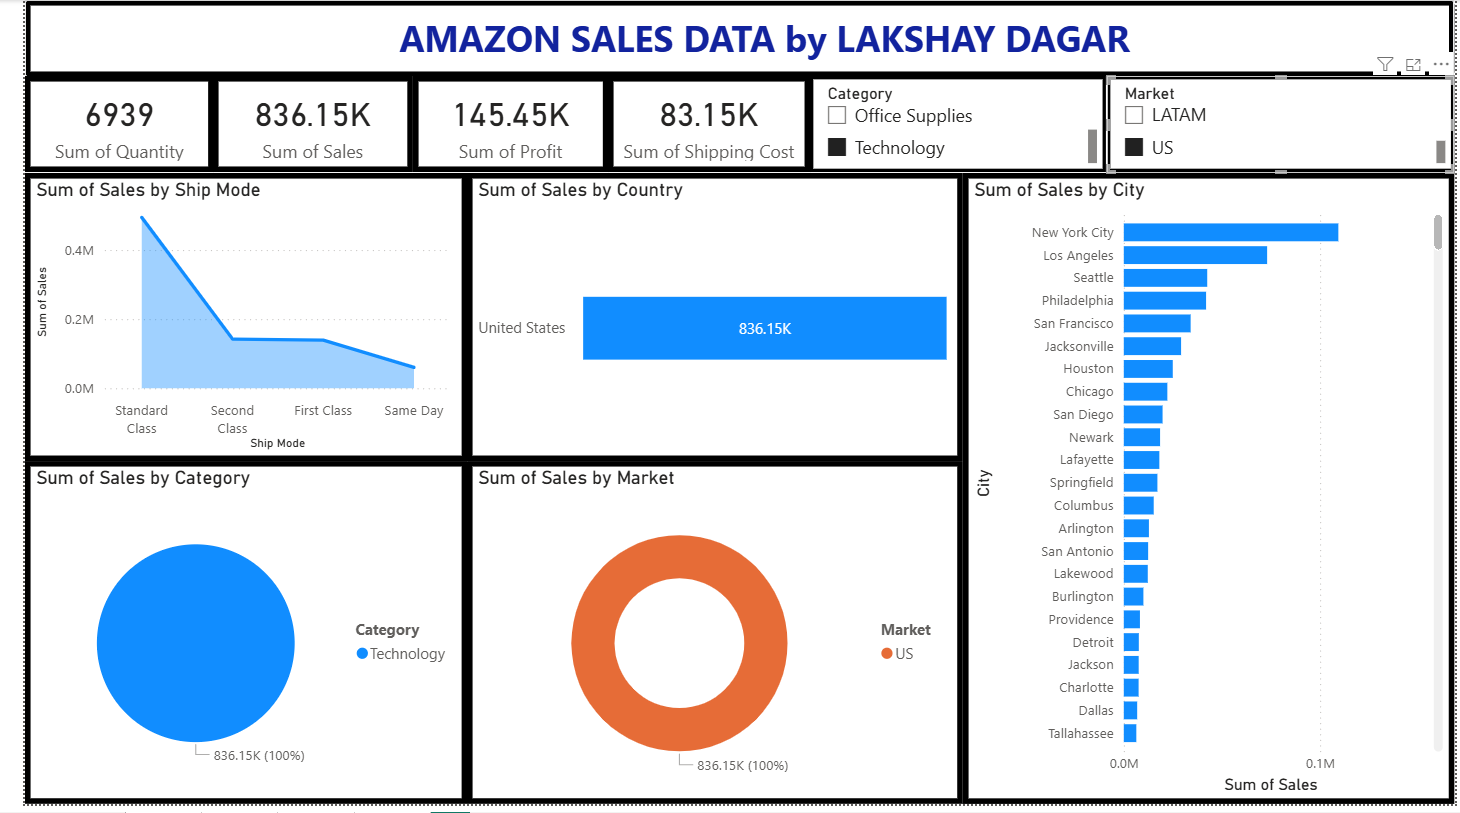

This screenshot's page, from the dashboard's own definition file:
{"tool":"powerbi","page":{"name":"Page 1","canvas":[1280,720],"ordinal":0},"visuals":[{"type":"pieChart","fields":{"Category":["Orders.Category"],"Y":["Sum(Orders.Sales)"]},"box":[0,412.4,395.9,307.4],"z":0},{"type":"donutChart","fields":{"Category":["Orders.Market"],"Y":["Sum(Orders.Sales)"]},"box":[395.9,412.4,444.5,307.4],"z":1000},{"type":"areaChart","fields":{"Category":["Orders.Ship Mode"],"Y":["Sum(Orders.Sales)"]},"box":[0,154.7,395.9,257.8],"z":2000},{"type":"clusteredBarChart","fields":{"Category":["Orders.City"],"Y":["Sum(Orders.Sales)"]},"box":[840.4,154.7,439.6,565.1],"z":3000},{"type":"funnel","fields":{"Y":["Sum(Orders.Sales)"],"Category":["Orders.Country"]},"box":[395.9,154.7,444.5,257.8],"z":3001},{"type":"textbox","box":[0,0,1280,68.7],"z":3002},{"type":"card","fields":{"Values":["Sum(Orders.Quantity)"]},"box":[0,68.3,168.8,86.4],"z":3003},{"type":"card","fields":{"Values":["Sum(Orders.Sales)"]},"box":[168.8,68.3,178.8,86.4],"z":3004},{"type":"card","fields":{"Values":["Sum(Orders.Profit)"]},"box":[347.6,68.3,174.8,86.4],"z":3005},{"type":"card","fields":{"Values":["Sum(Orders.Shipping Cost)"]},"box":[522.4,68.3,180.8,86.4],"z":3006},{"type":"slicer","fields":{"Values":["Orders.Category"]},"box":[703.3,68.3,265.2,86.4],"z":3007},{"type":"slicer","fields":{"Values":["Orders.Market"]},"box":[968.5,68.3,311.5,86.4],"z":3008}]}

Visuals, with their boxes in screenshot pixels (x1, y1, x2, y2), scaled from the page's 1280x720 canvas onto the 1460x813 screenshot:
pieChart - Orders.Category x Sum(Orders.Sales): 0, 466, 452, 812
donutChart - Orders.Market x Sum(Orders.Sales): 452, 466, 959, 812
areaChart - Orders.Ship Mode x Sum(Orders.Sales): 0, 175, 452, 466
clusteredBarChart - Orders.City x Sum(Orders.Sales): 959, 175, 1459, 812
funnel - Sum(Orders.Sales) x Orders.Country: 452, 175, 959, 466
textbox: 0, 0, 1459, 78
card - Sum(Orders.Quantity): 0, 77, 193, 175
card - Sum(Orders.Sales): 193, 77, 396, 175
card - Sum(Orders.Profit): 396, 77, 596, 175
card - Sum(Orders.Shipping Cost): 596, 77, 802, 175
slicer - Orders.Category: 802, 77, 1105, 175
slicer - Orders.Market: 1105, 77, 1459, 175
